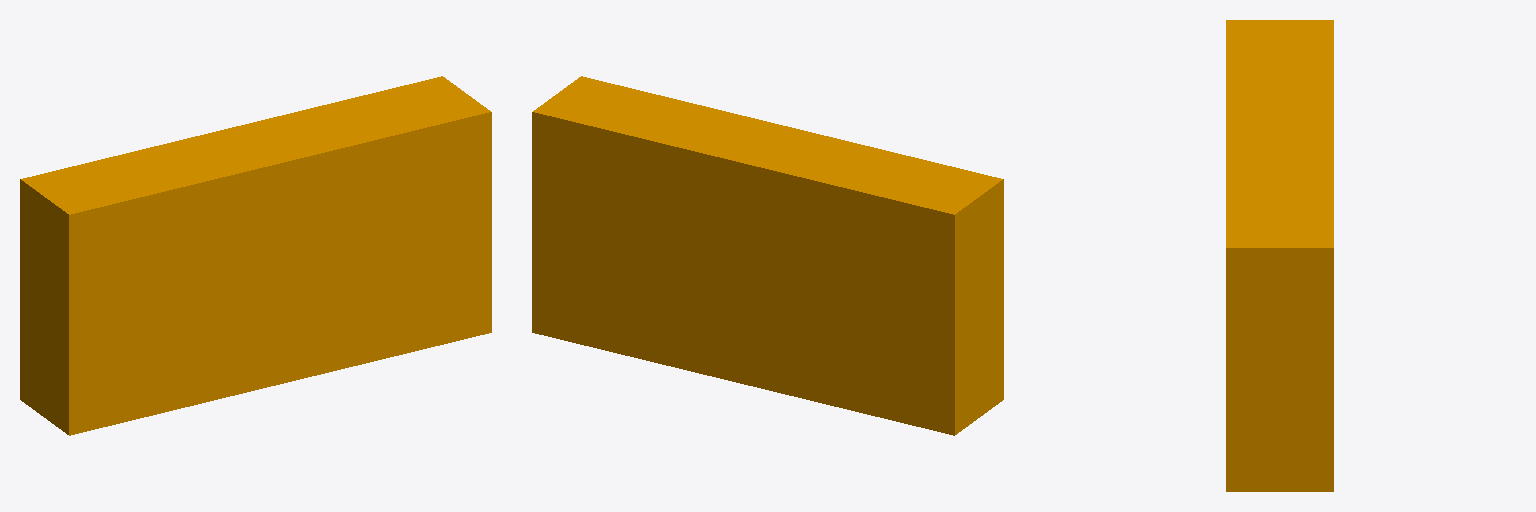
robot.urdf — cuboid:
<?xml version="1.0"?>
<robot name="cuboid">
  <link name="base_link">

    <collision>
      <geometry>
        <box size="10 2 5"/>
      </geometry>
    </collision>

    <inertial>
      <mass value="2"/>
    	<inertia ixx="0.333" ixy="0" ixz="0" iyy="0.833" iyz="0" izz="0.833"/>
  	</inertial>

    <visual>
      <geometry>
        <box size="10 2 5"/>
      </geometry>
    </visual>

  </link>
</robot>

--- What the picture shows (computed from the rendered views, not written in the file) ---
The picture shows the robot from 3 angles, left to right: view 1: azimuth 30°, elevation 25°; view 2: azimuth 150°, elevation 25°; view 3: azimuth 270°, elevation 25°; orthographic projection.
Model cuboid with 1 links and 0 joints (none), rooted at base_link, posed every joint at zero.
Visible links, largest first — view 1: base_link; view 2: base_link; view 3: base_link.
Boxes of the visible links, x1,y1,x2,y2 form: base_link: [20, 76, 491, 435]; base_link: [532, 76, 1003, 435]; base_link: [1226, 20, 1333, 491].
Bounding box of the posed robot: 10 × 2 × 5 m (x, y, z).
Geometry: primitives only (box / cylinder / sphere), no mesh files.